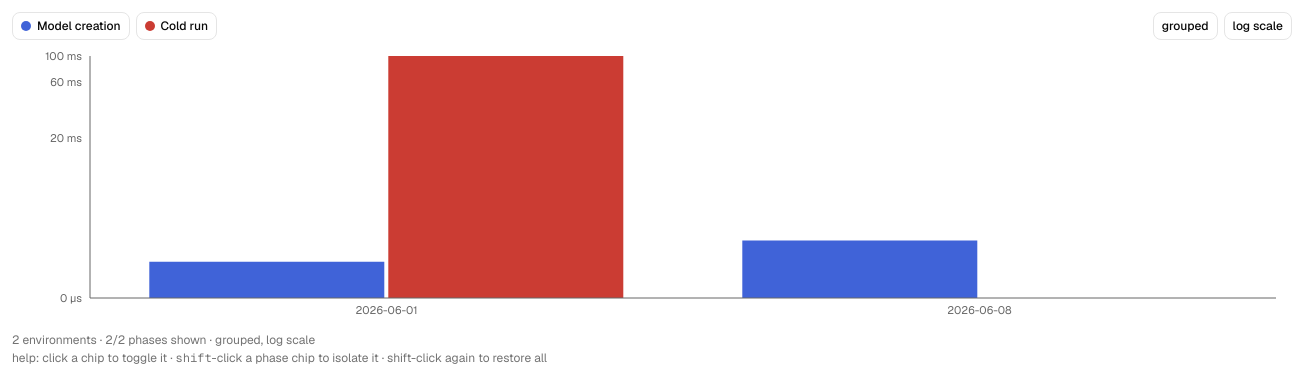
PhaseBreakdownChart › switches between log and linear scale
Click the button "log scale": (1258, 26) [1224, 12, 1292, 40]
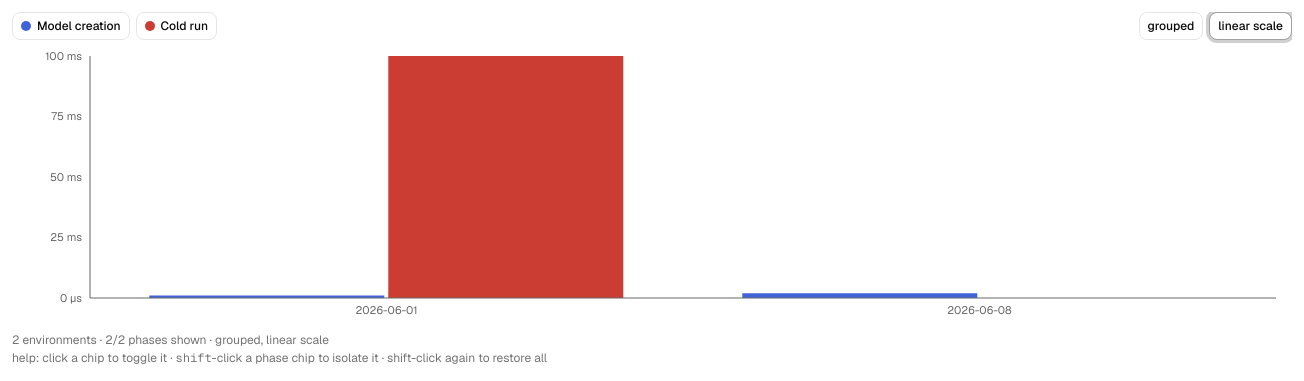
Expected: the text "2 environments · 2/2 phases shown · grouped, linear scale" is shown, [12, 332, 329, 348]
